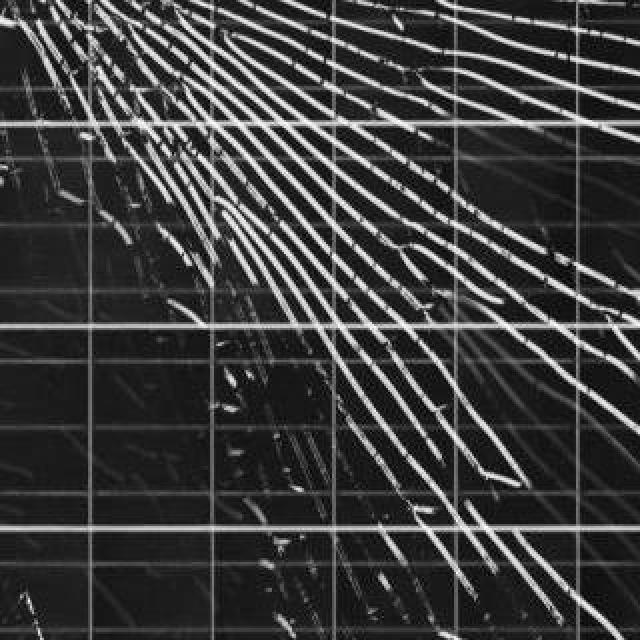Physical-damage: (4, 2, 640, 638)
